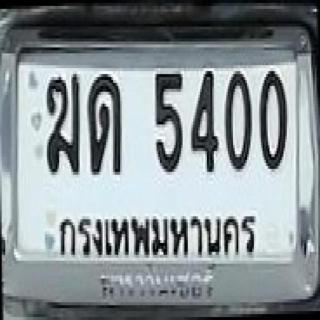A06: (37, 72, 83, 177)
A20: (84, 72, 128, 180)
N00: (255, 68, 291, 174), (221, 70, 252, 174)
N04: (188, 68, 220, 178)
N05: (149, 69, 187, 176)
P04: (55, 211, 258, 258)
